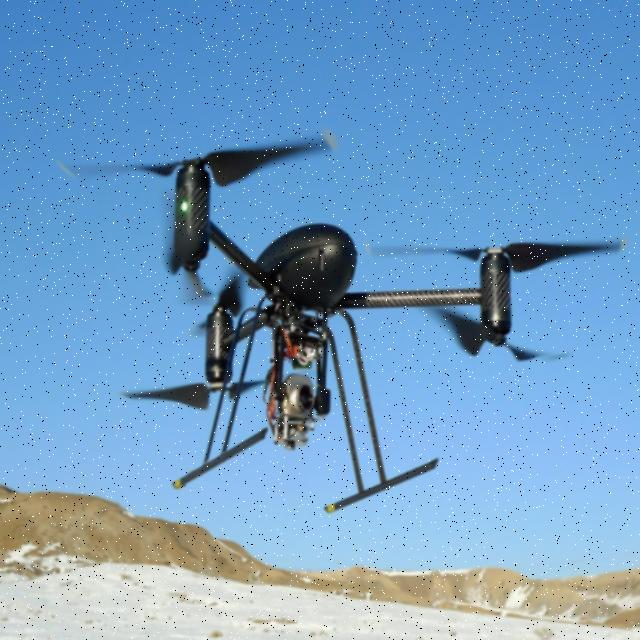UAV: (147, 130, 526, 517)
